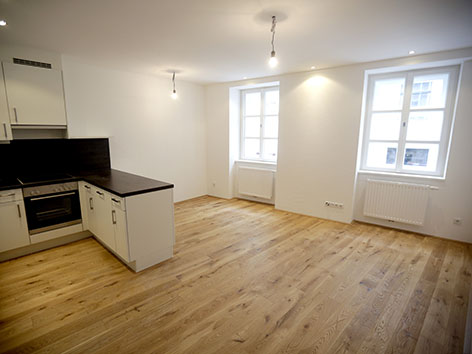wall: (205, 47, 471, 244), (1, 44, 205, 249)
window: (355, 57, 464, 182), (230, 81, 279, 166)
